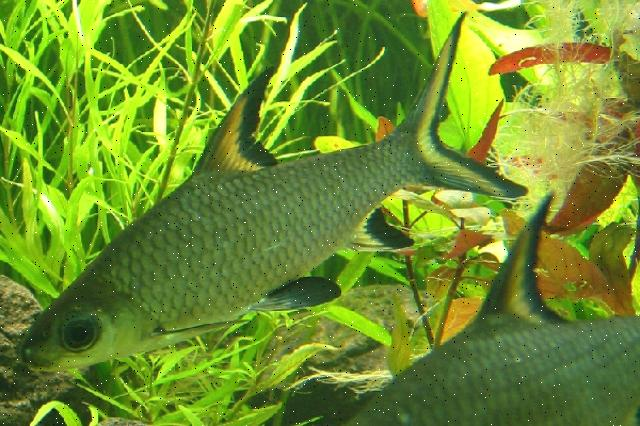Mulut: (0, 326, 90, 402)
Sirip Anal: (332, 197, 424, 273)
Sirip Dada: (134, 305, 264, 355)
Sirip Ekor: (397, 6, 537, 220)
Sirip Perut: (251, 266, 357, 324)
Sirip Punggung: (172, 60, 322, 193)
